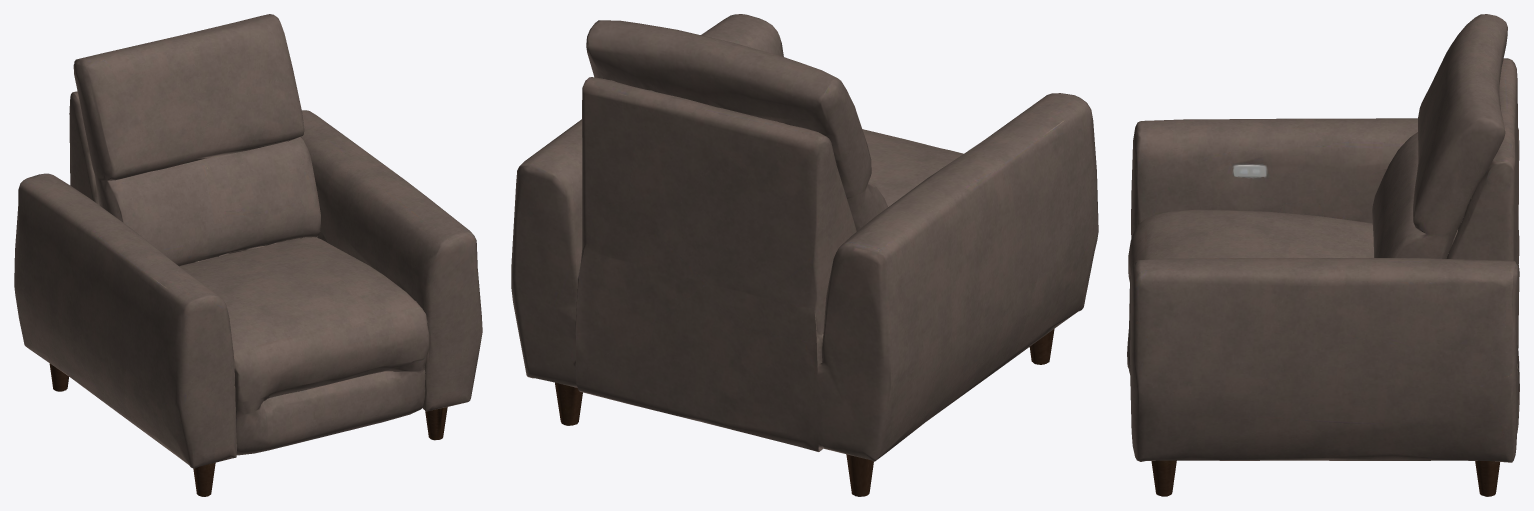
The picture shows the model from 3 angles, left to right: view 1: azimuth 30°, elevation 25°; view 2: azimuth 150°, elevation 25°; view 3: azimuth 270°, elevation 25°; orthographic projection. The views are drawn at different scales.
Visible parts, largest first — view 1: ASY_ART_60635536_S01_NV01; view 2: ASY_ART_60635536_S01_NV01; view 3: ASY_ART_60635536_S01_NV01.
Boxes of the visible parts, x1,y1,x2,y2 form: ASY_ART_60635536_S01_NV01: [14, 14, 482, 496]; ASY_ART_60635536_S01_NV01: [511, 14, 1098, 496]; ASY_ART_60635536_S01_NV01: [1127, 14, 1519, 496].
Size of the model in its own units: 0.9773 by 0.993 by 0.9586.
Materials: 1 (1 with a texture image).
